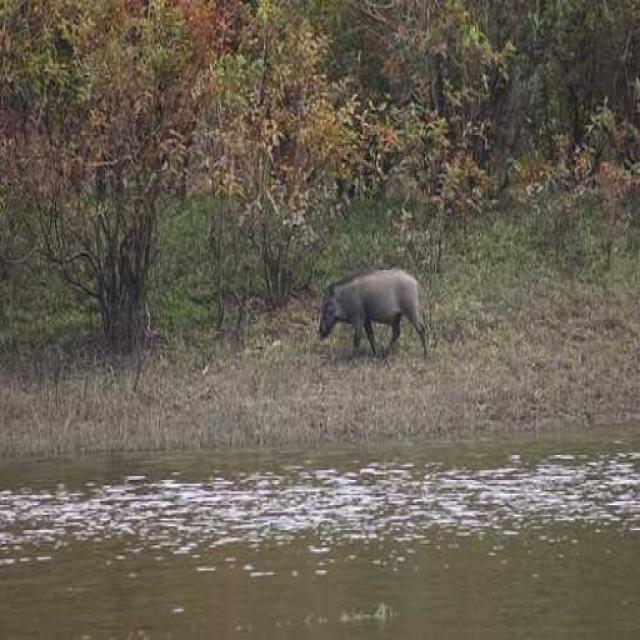pig: (279, 254, 485, 374)
